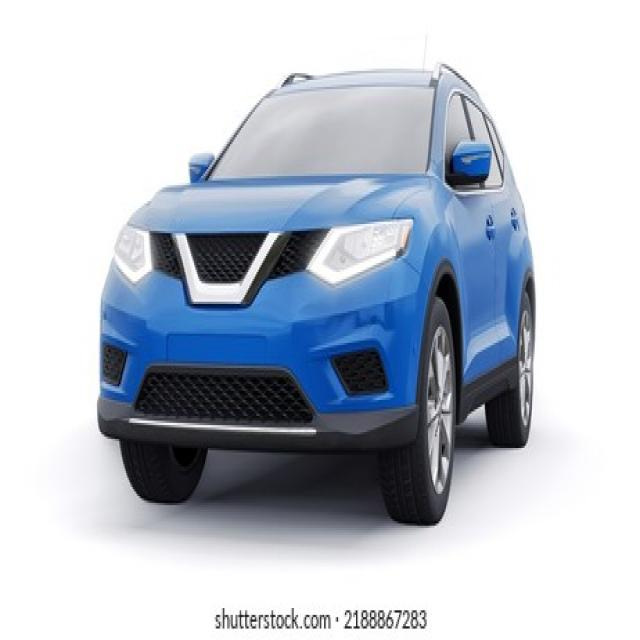car: (83, 16, 553, 523)
